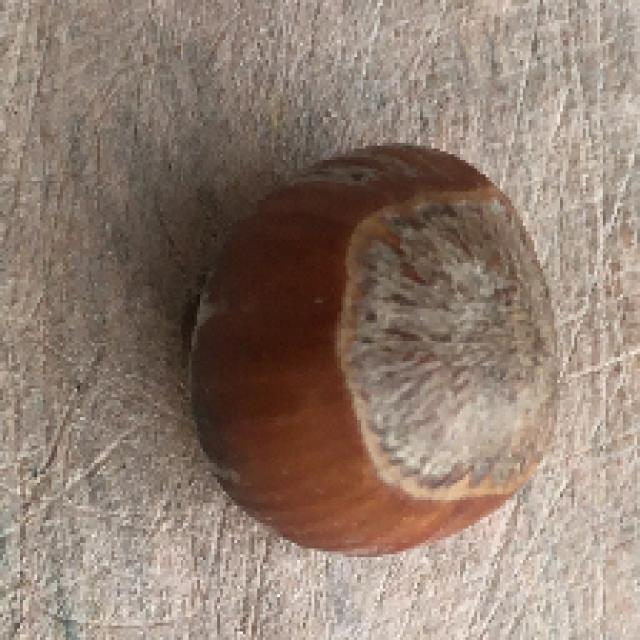qualityHazelnut: (183, 139, 562, 555)
